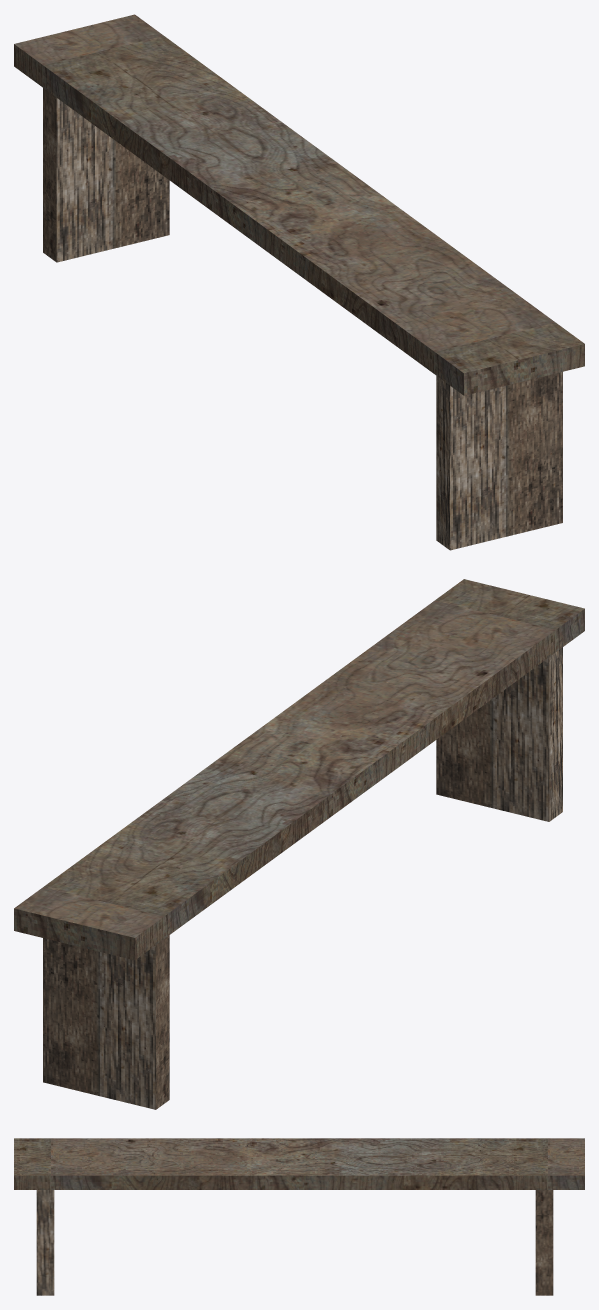
File: _Bench_1.FBX
The picture shows the model from 3 angles, top to bottom: view 1: azimuth 30°, elevation 25°; view 2: azimuth 150°, elevation 25°; view 3: azimuth 270°, elevation 25°; orthographic projection. The views are drawn at different scales.
Visible parts, largest first — view 1: _Bench_1; view 2: _Bench_1; view 3: _Bench_1.
Part boxes in pixels (bbox=[...]): _Bench_1: bbox=[14, 14, 584, 550]; _Bench_1: bbox=[14, 579, 584, 1109]; _Bench_1: bbox=[14, 1138, 584, 1295].
Bounding box in the file's own units: 26.75 × 40.41 × 172.
Materials: 2 (2 with a texture image).
